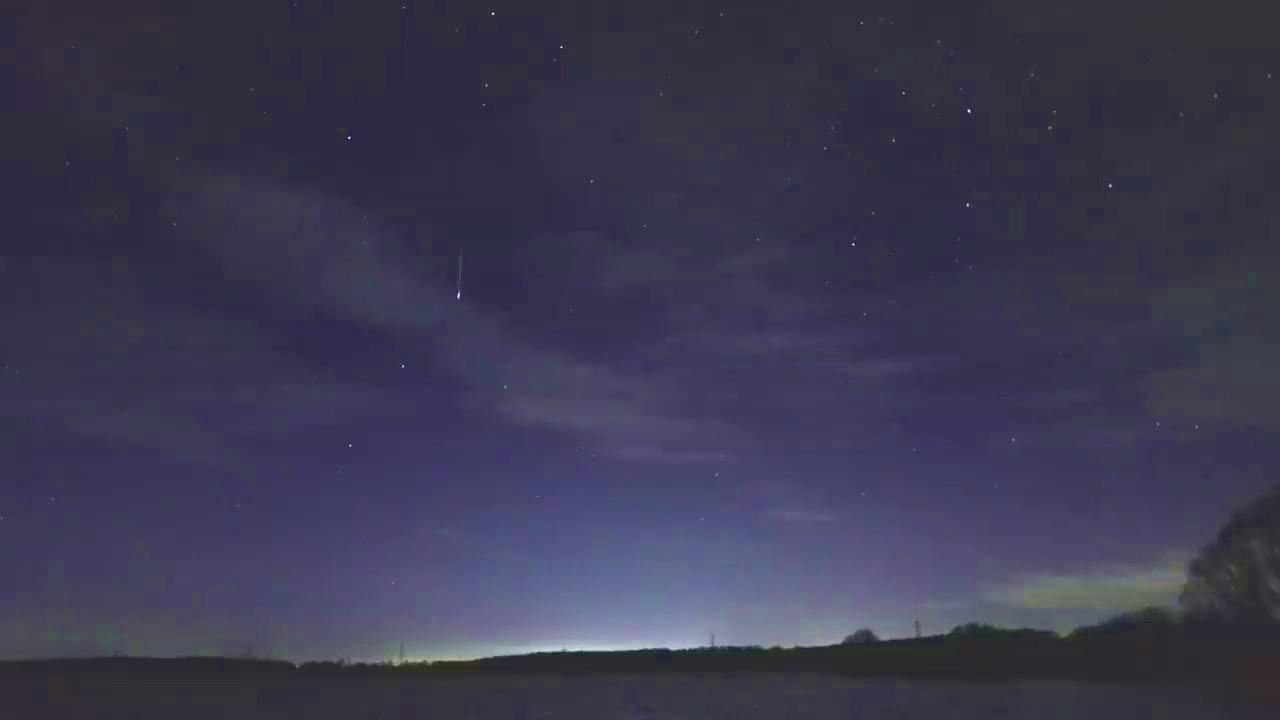meteorite: (424, 249, 493, 308)
